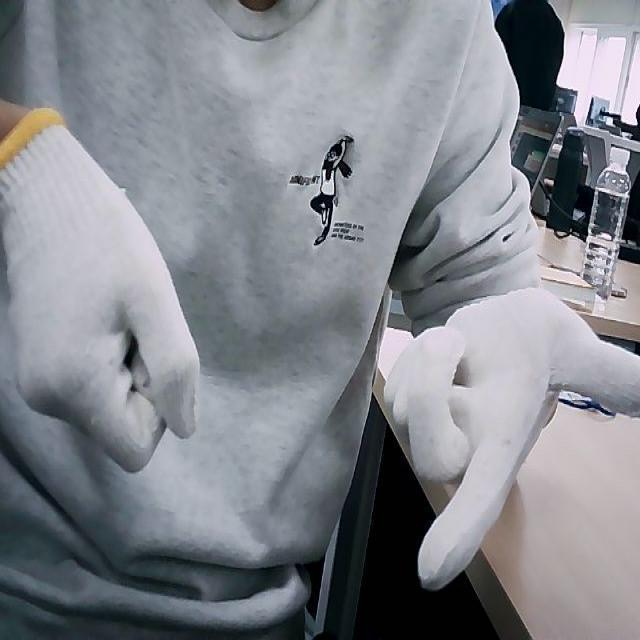gloves: (384, 288, 640, 586), (0, 106, 202, 474)
